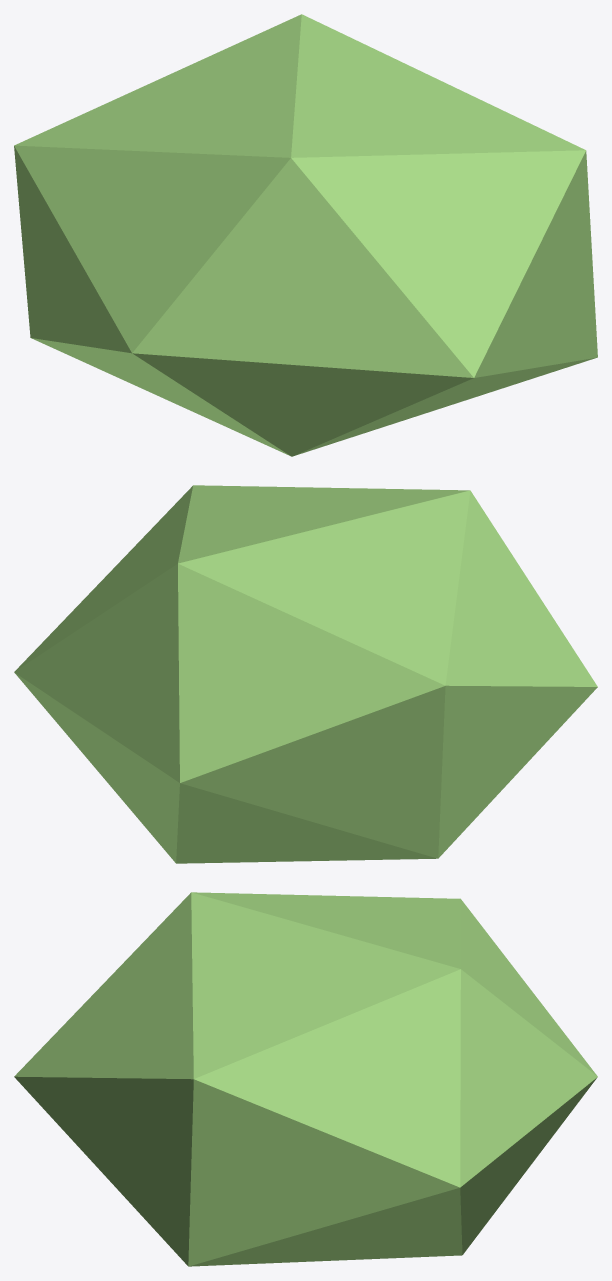
Rendered from arbusto_2_lod.fbx.
3 renders of one model, top to bottom at view 1: azimuth 30°, elevation 25°; view 2: azimuth 150°, elevation 25°; view 3: azimuth 270°, elevation 25°, orthographic. The views are drawn at different scales.
Visible parts, largest first — view 1: arbusto_2_lod~Folhagem@leaf; view 2: arbusto_2_lod~Folhagem@leaf; view 3: arbusto_2_lod~Folhagem@leaf.
Boxes of the visible parts, x1,y1,x2,y2 form: arbusto_2_lod~Folhagem@leaf: [14, 14, 597, 456]; arbusto_2_lod~Folhagem@leaf: [14, 485, 597, 863]; arbusto_2_lod~Folhagem@leaf: [14, 892, 597, 1266].
Bounding box in the file's own units: 1.38 × 0.8936 × 1.62.
